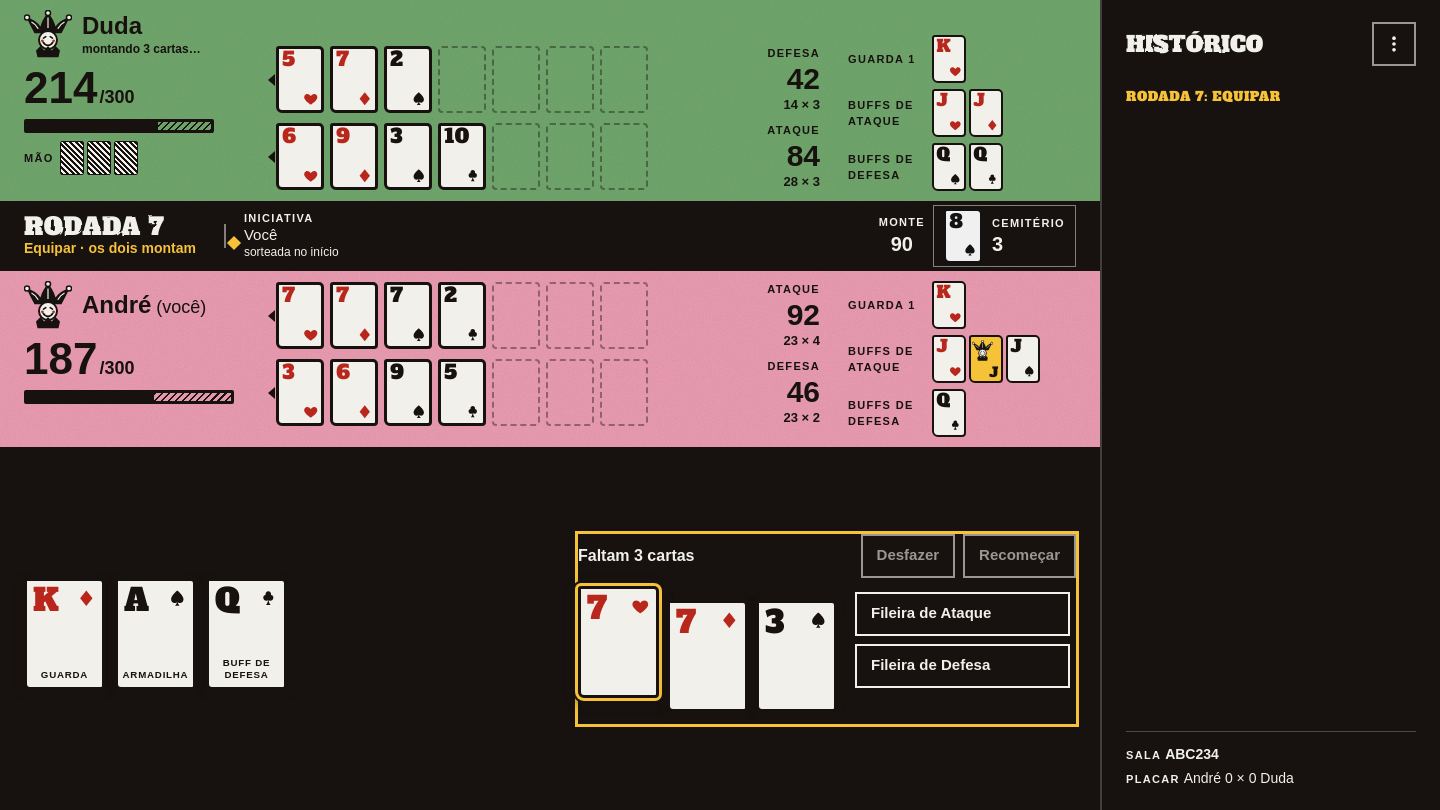
Scenario: Equipar (spec §3.5; livre desde a E2 do sub-projeto 5) › a quadra que o rascunho forma: "forma quadra de 7: +7 e 1 Ressurreição"
Check: the text "forma quadra" is not shown
What coordinates should you click on to do the following:
click the button "Fileira de Ataque"
I would click on:
 (962, 614)
Its box is [855,592,1070,636].
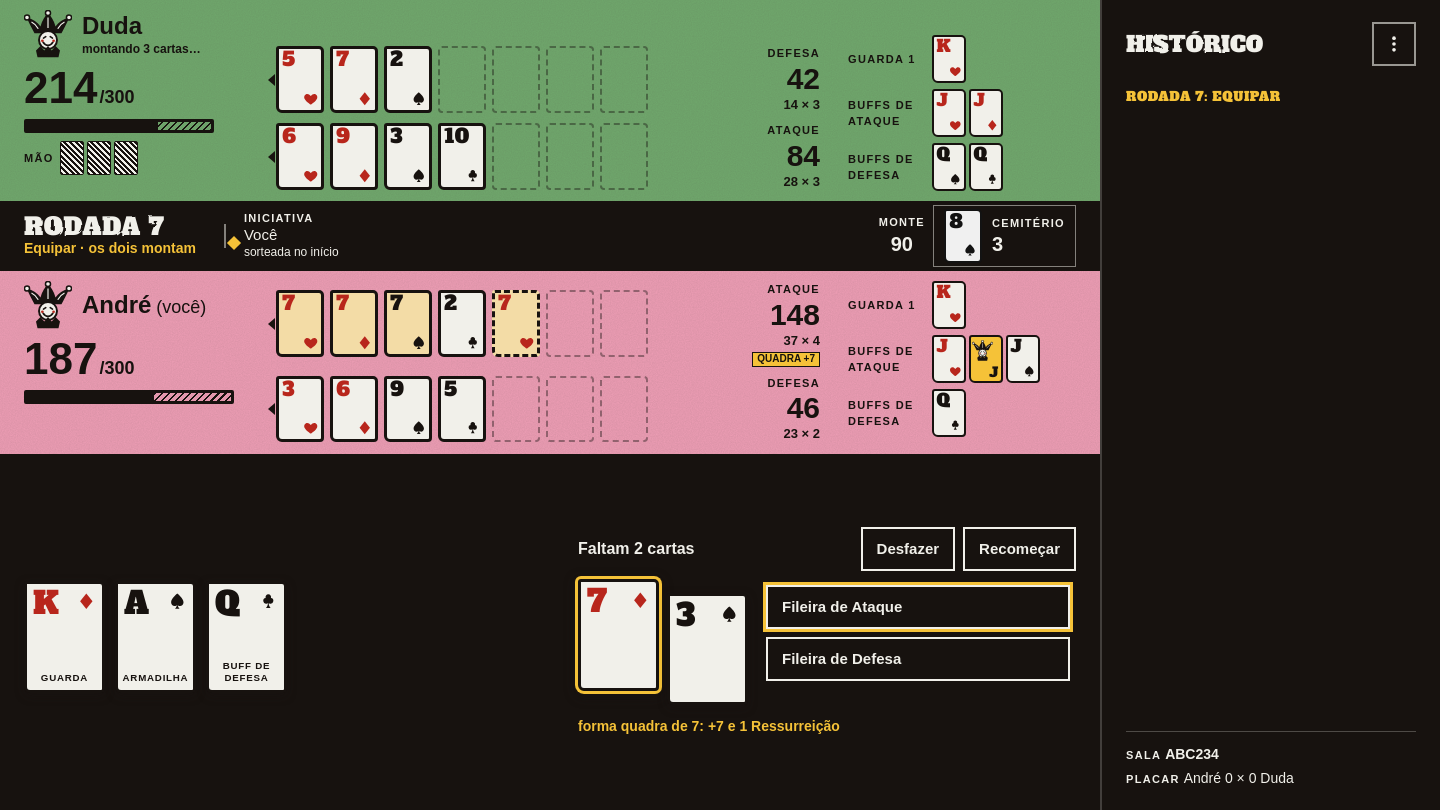
Check: the text "forma quadra de 7: +7 e 1 Ressurreição" is shown, box [578,718,840,734]
Check: the text "quadra +7" is shown, box [752,352,820,366]
What coordinates should you click on to do the following:
click the button "Desfazer"
I would click on:
 (908, 549)
Its box is [861,527,955,571].
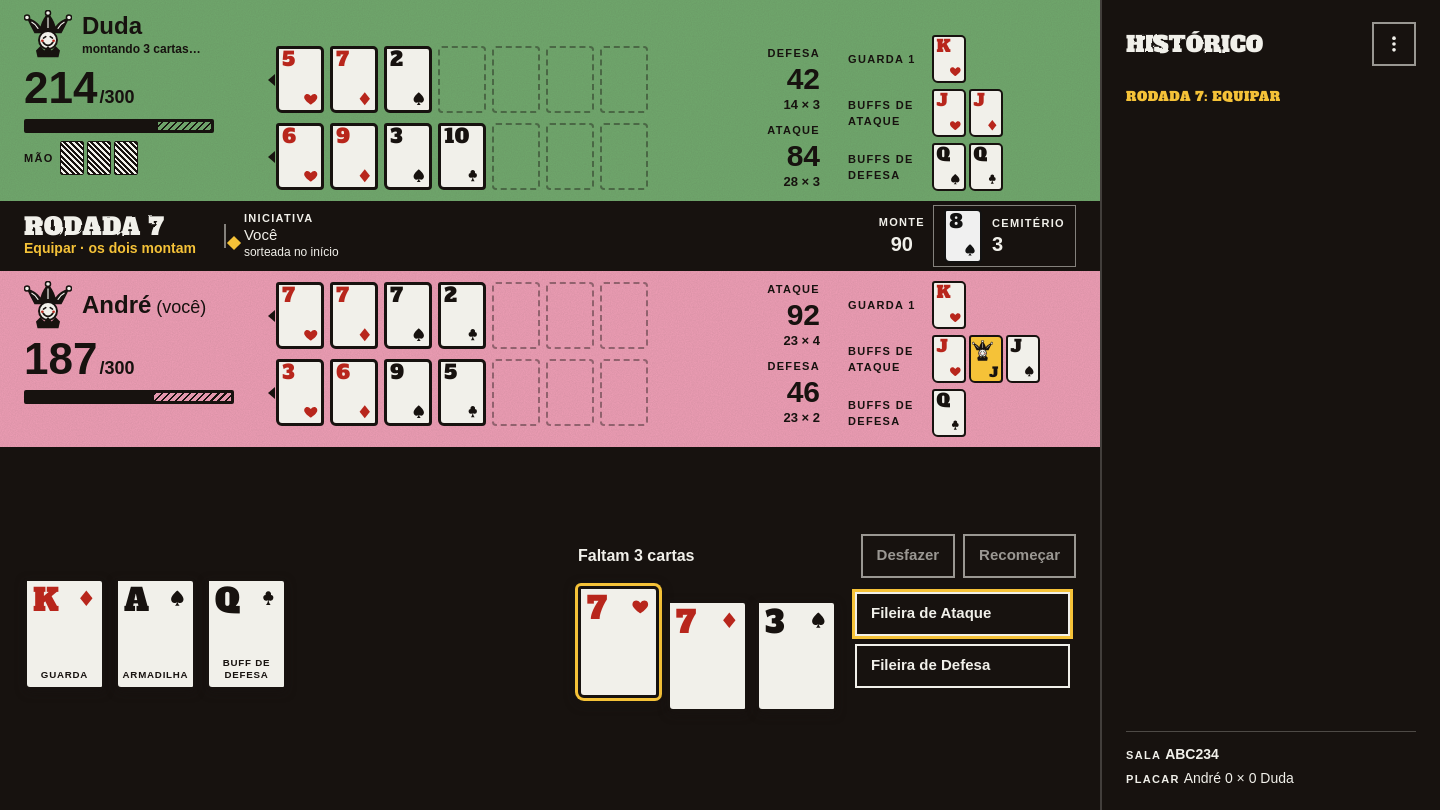
Check: the text "forma quadra" is gone
